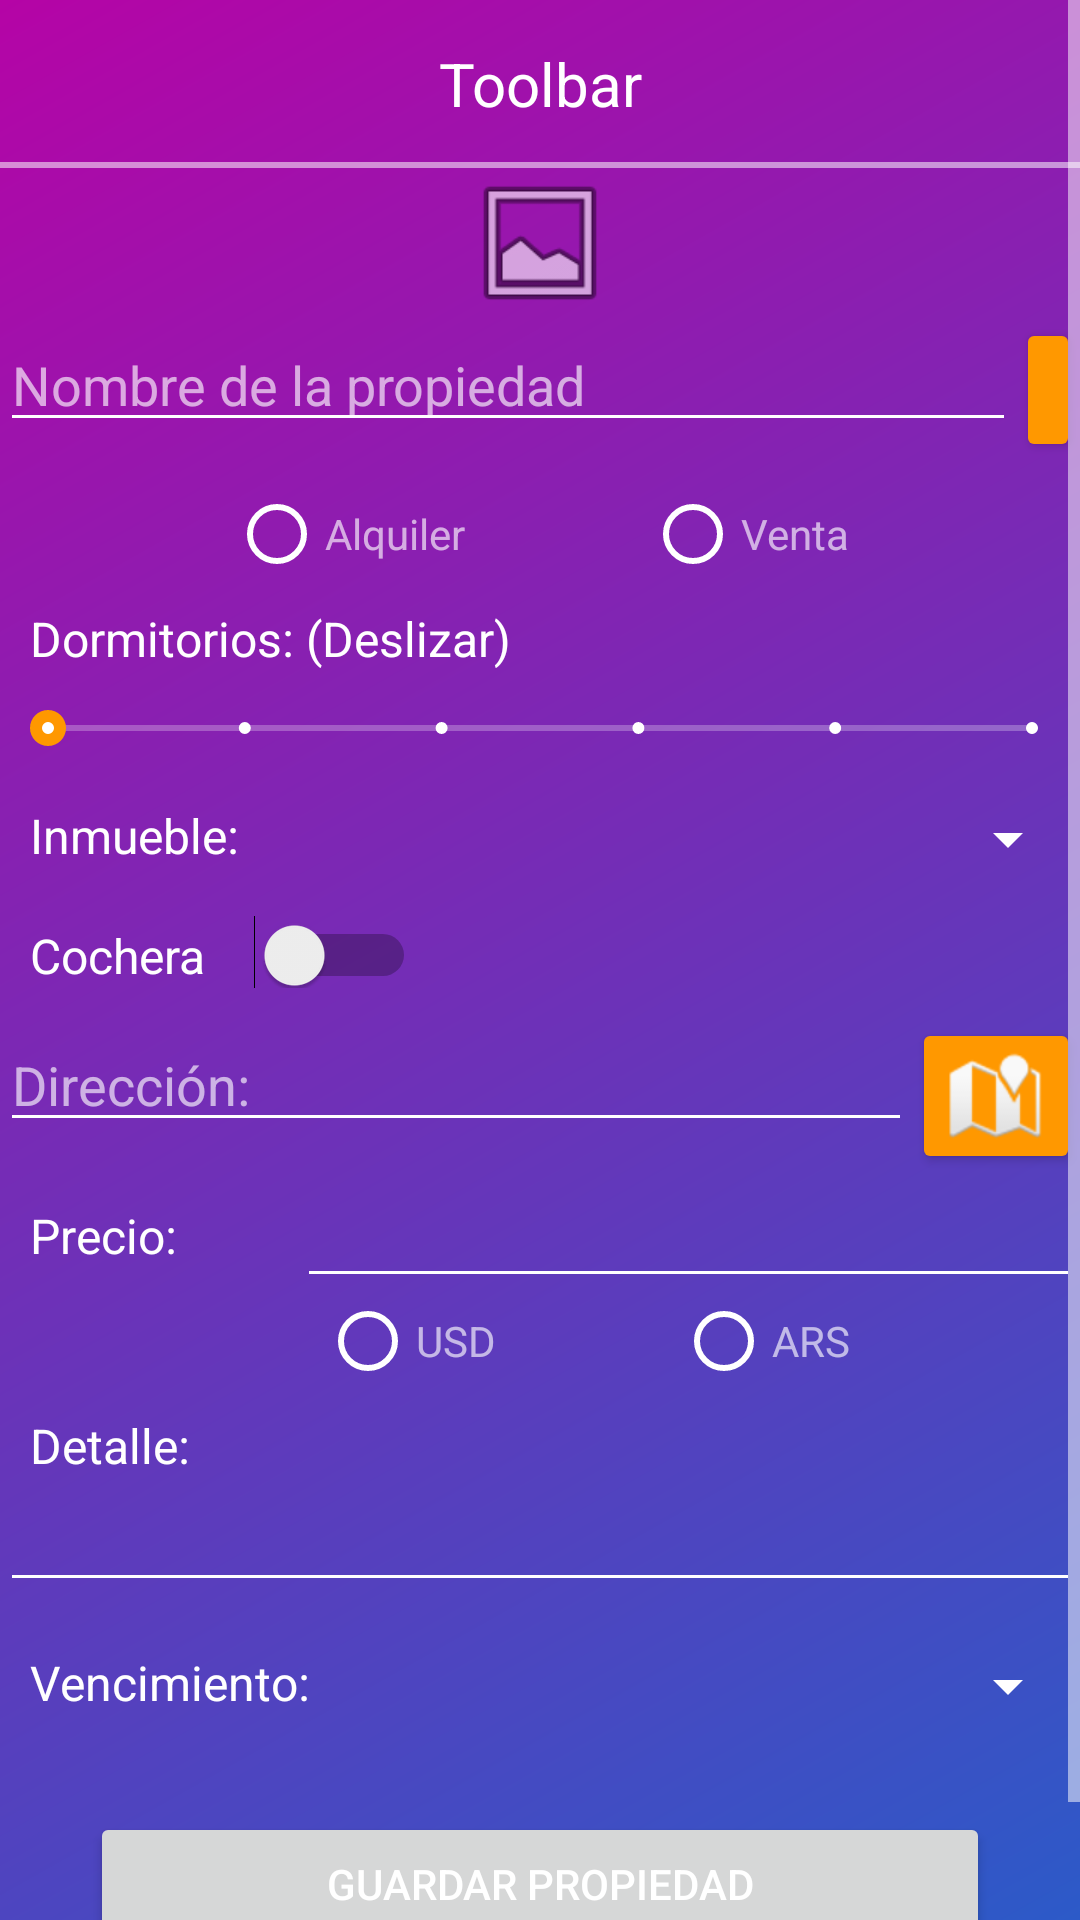

Locate icon controls on the screen. Image size 1080x1920, boxes as box(x1, y1, x2, y2).
map: box(924, 1018, 1080, 1174)
